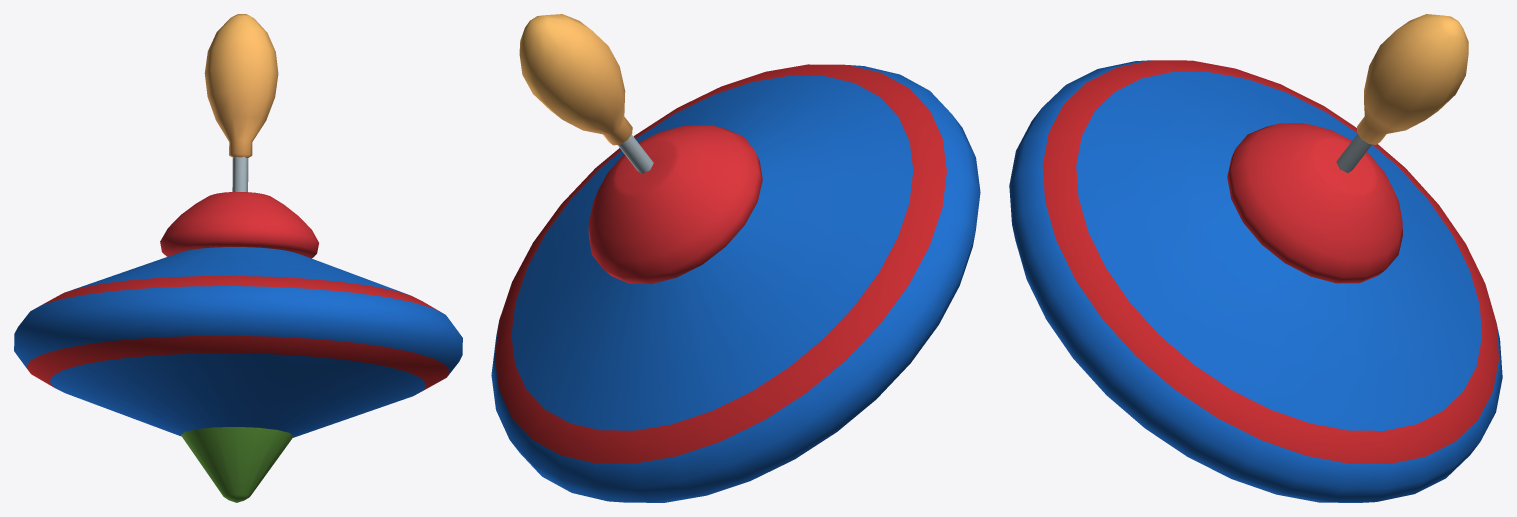
Rendered from Toy_03.glb.
3 views of the same model, side by side, from view 1: azimuth 30°, elevation 25°; view 2: azimuth 150°, elevation 25°; view 3: azimuth 270°, elevation 25° (orthographic). The views are drawn at different scales.
Parts seen in each view (by area): view 1: Toy_03; view 2: Toy_03; view 3: Toy_03.
Part boxes in pixels (x1,y1,x2,y2): Toy_03: (14, 14, 462, 502); Toy_03: (491, 14, 980, 502); Toy_03: (1009, 14, 1502, 502).
Size of the model in its own units: 0.2877 by 0.2788 by 0.2666.
Materials: 1 (1 with a texture image).
